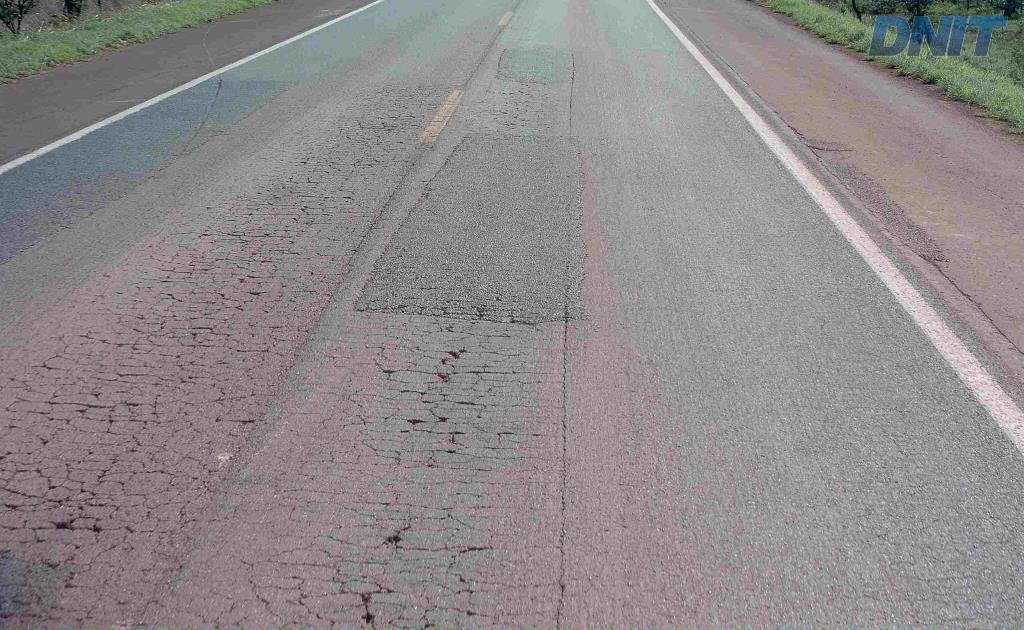crack: (319, 548, 403, 609)
